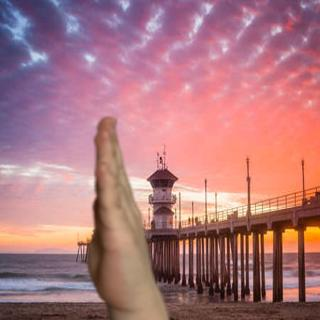RIGHT: (86, 112, 171, 308)
